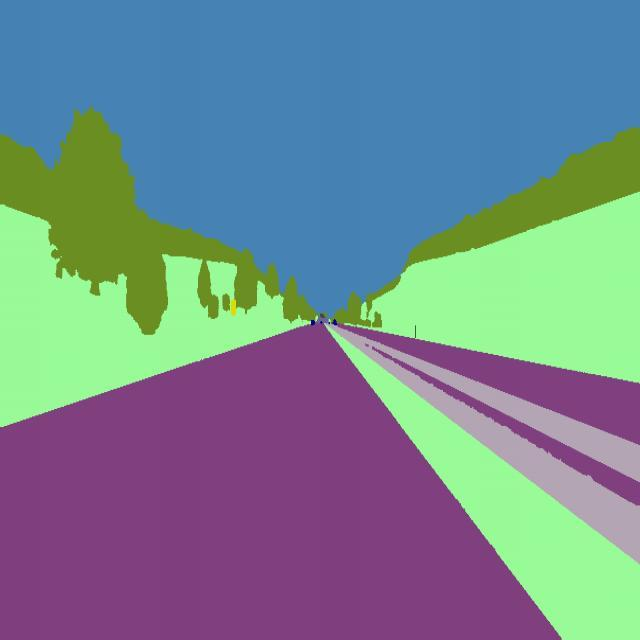safe: (306, 318, 318, 328), (330, 318, 340, 328)
